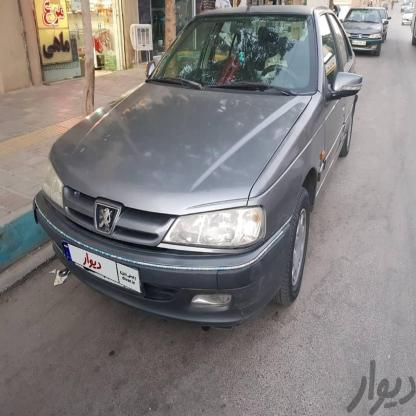Car: (33, 5, 362, 324), (337, 4, 387, 59), (400, 9, 413, 27)
